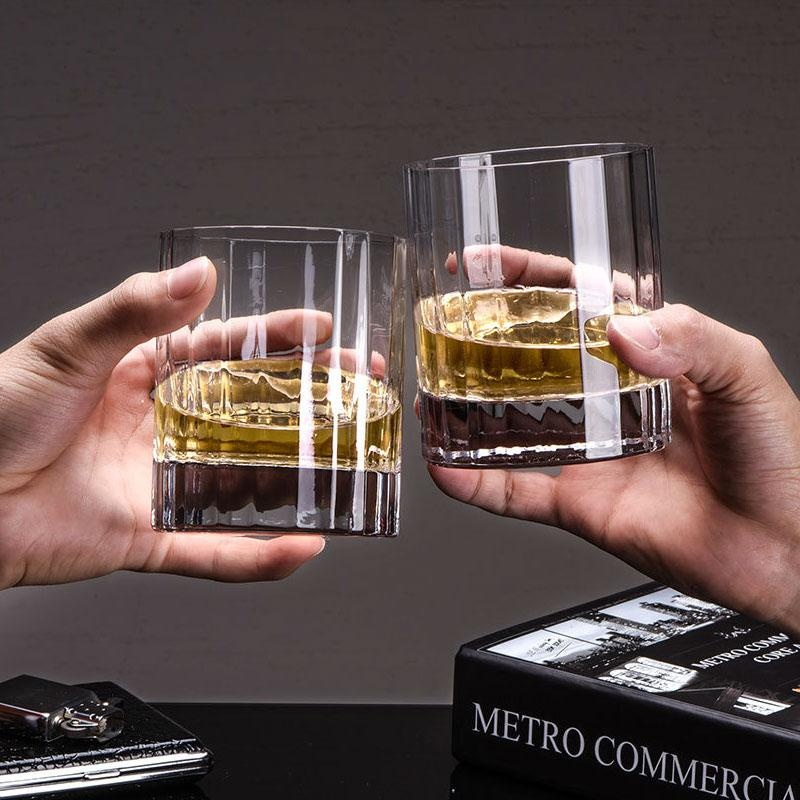whiskey: (406, 127, 678, 496), (158, 221, 400, 536)
